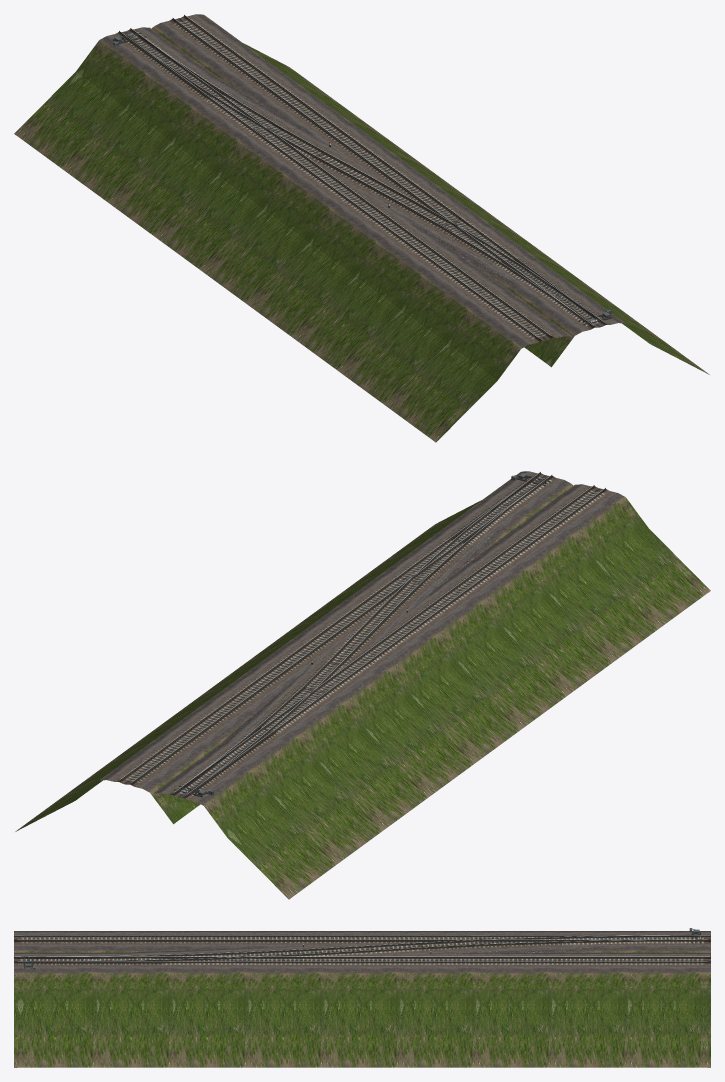
Rendered from tracks_2track2-2.gltf.
3 renders of one model, top to bottom at view 1: azimuth 30°, elevation 25°; view 2: azimuth 150°, elevation 25°; view 3: azimuth 270°, elevation 25°, orthographic. The views are drawn at different scales.
Parts seen in each view (by area): view 1: tracks_2track2-2; view 2: tracks_2track2-2; view 3: tracks_2track2-2.
Part boxes in pixels (box(x1,y1,x2,y2)): tracks_2track2-2: box(14, 14, 709, 442); tracks_2track2-2: box(15, 471, 710, 899); tracks_2track2-2: box(14, 928, 710, 1067).
Bounding box in the file's own units: 38.38 × 10.63 × 102.
Materials: 1 (1 with a texture image).
